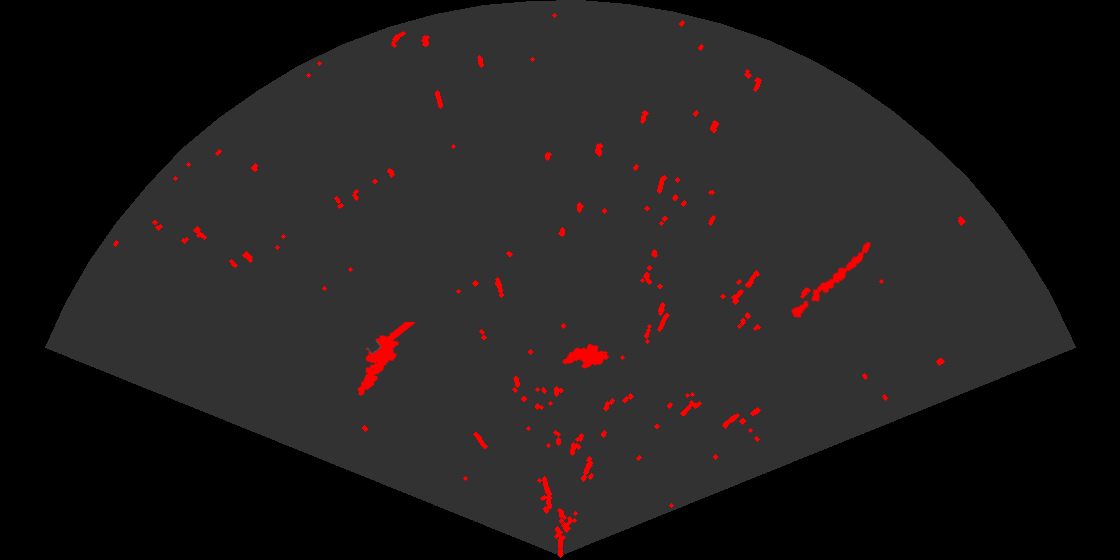AUV: (561, 342, 611, 370)
chain: (789, 240, 872, 320)
frogman: (356, 322, 415, 397)
